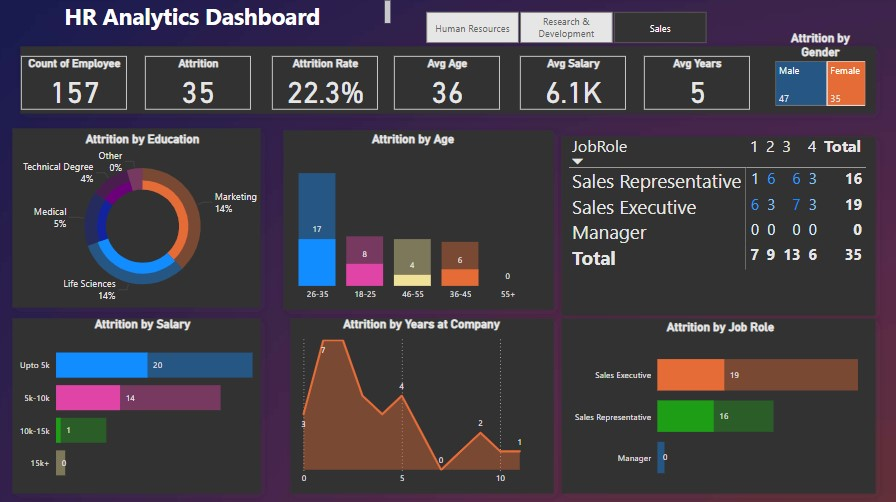

The dashboard page shown, as its layout file describes it:
{"tool":"powerbi","page":{"name":"Page 1","canvas":[1280,720],"ordinal":0},"visuals":[{"type":"shape","box":[7.1,170.1,384.1,286.3],"z":0},{"type":"shape","box":[391.2,172.9,415.3,286.3],"z":1000},{"type":"shape","box":[785.2,181.4,477.6,286.3],"z":2000},{"type":"shape","box":[7.1,439.4,384.1,280.6],"z":3000},{"type":"shape","box":[401.1,439.4,405.4,280.6],"z":4000},{"type":"shape","box":[785.2,439.4,477.6,280.6],"z":5000},{"type":"shape","box":[18.4,53.9,1244.4,127.6],"z":6000},{"type":"card","title":"Count of Employee","fields":{"Values":["CountNonNull(HR_Analytics.EmpID)"]},"box":[35.3,84,149.5,75.6],"z":7000},{"type":"card","title":"Attrition","fields":{"Values":["Sum(HR_Analytics.AttritionCount)"]},"box":[211.7,84,149.5,75.6],"z":8000},{"type":"card","title":"Attrition Rate","fields":{"Values":["HR_Analytics.AttritionRate"]},"box":[391.4,84,149.5,75.6],"z":9000},{"type":"card","title":"Avg Age","fields":{"Values":["Avg(HR_Analytics.Age)"]},"box":[564.4,84,149.5,75.6],"z":10000},{"type":"card","title":"Avg Salary","fields":{"Values":["Avg(HR_Analytics.MonthlyIncome)"]},"box":[742.5,84,149.5,75.6],"z":11000},{"type":"card","title":"Avg Years","fields":{"Values":["Avg(HR_Analytics.YearsAtCompany)"]},"box":[918.8,84,149.5,75.6],"z":12000},{"type":"donutChart","title":"Attrition by Education","fields":{"Y":["Sum(HR_Analytics.AttritionCount)"],"Category":["HR_Analytics.EducationField","HR_Analytics.YearsAtCompany"]},"box":[24.1,191.3,367.1,248],"z":13000},{"type":"columnChart","title":"Attrition by Age","fields":{"Category":["HR_Analytics.AgeGroup"],"Y":["Sum(HR_Analytics.AttritionCount)"]},"box":[396.9,191.3,388.3,248],"z":14000},{"type":"pivotTable","fields":{"Rows":["HR_Analytics.JobRole"],"Columns":["HR_Analytics.JobSatisfaction"],"Values":["Sum(HR_Analytics.AttritionCount)"]},"box":[806.5,191.3,456.4,248],"z":15000},{"type":"barChart","title":"Attrition by Salary","fields":{"Category":["HR_Analytics.SalarySlab"],"Y":["Sum(HR_Analytics.AttritionCount)"]},"box":[24.1,453.5,367.1,249.4],"z":16000},{"type":"barChart","title":"Attrition by Job Role","fields":{"Category":["HR_Analytics.JobRole"],"Y":["Sum(HR_Analytics.AttritionCount)"]},"box":[806.5,457.8,440.8,248],"z":17000},{"type":"areaChart","title":"Attrition by Years at Company","fields":{"Category":["HR_Analytics.YearsAtCompany"],"Y":["Sum(HR_Analytics.AttritionCount)"]},"box":[420.9,453.5,364.3,246.6],"z":18000},{"type":"treemap","title":"Attrition by Gender","fields":{"Group":["HR_Analytics.Gender"],"Values":["Sum(HR_Analytics.AttritionCount)"]},"box":[1099.8,48.2,137.5,110.6],"z":19000},{"type":"slicer","fields":{"Values":["HR_Analytics.Department"]},"box":[584.2,14.1,447,53.8],"z":20000},{"type":"textbox","box":[0,0,564.1,53.9],"z":21000}]}

Visuals, with their boxes in screenshot pixels (x1, y1, x2, y2), scaled from the page's 1280x720 canvas onto the 896x502 screenshot:
shape: Rect(5, 119, 274, 318)
shape: Rect(274, 121, 565, 320)
shape: Rect(550, 126, 884, 326)
shape: Rect(5, 306, 274, 501)
shape: Rect(281, 306, 565, 501)
shape: Rect(550, 306, 884, 501)
shape: Rect(13, 38, 884, 127)
"Count of Employee" card: Rect(25, 59, 129, 111)
"Attrition" card: Rect(148, 59, 253, 111)
"Attrition Rate" card: Rect(274, 59, 379, 111)
"Avg Age" card: Rect(395, 59, 500, 111)
"Avg Salary" card: Rect(520, 59, 624, 111)
"Avg Years" card: Rect(643, 59, 748, 111)
"Attrition by Education" donutChart: Rect(17, 133, 274, 306)
"Attrition by Age" columnChart: Rect(278, 133, 550, 306)
pivotTable - HR_Analytics.JobRole x HR_Analytics.JobSatisfaction: Rect(565, 133, 884, 306)
"Attrition by Salary" barChart: Rect(17, 316, 274, 490)
"Attrition by Job Role" barChart: Rect(565, 319, 873, 492)
"Attrition by Years at Company" areaChart: Rect(295, 316, 550, 488)
"Attrition by Gender" treemap: Rect(770, 34, 866, 111)
slicer - HR_Analytics.Department: Rect(409, 10, 722, 47)
textbox: Rect(0, 0, 395, 38)
